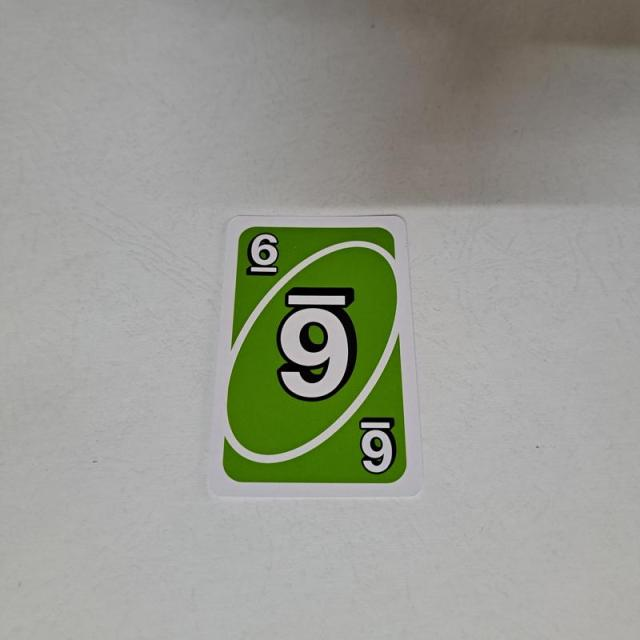Green_Card: (219, 222, 409, 488)
Number_6: (246, 228, 282, 287)
